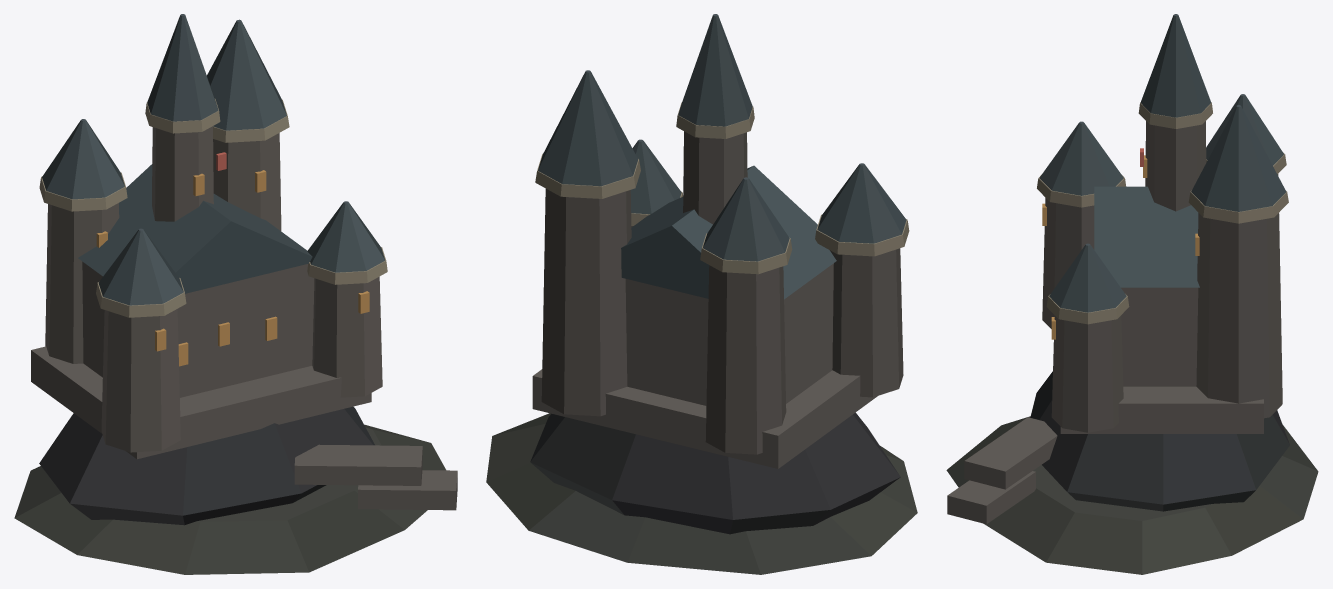
File: castle.glb
3 views of the same model, side by side, from view 1: azimuth 30°, elevation 25°; view 2: azimuth 150°, elevation 25°; view 3: azimuth 270°, elevation 25° (orthographic). The views are drawn at different scales.
Parts seen in each view (by area): view 1: Castle Ravenloft · atlas landmark; view 2: Castle Ravenloft · atlas landmark; view 3: Castle Ravenloft · atlas landmark.
Part boxes in pixels (x1,y1,x2,y2): Castle Ravenloft · atlas landmark: (14, 14, 457, 574); Castle Ravenloft · atlas landmark: (486, 14, 917, 574); Castle Ravenloft · atlas landmark: (946, 14, 1318, 574).
Size of the model in its own units: 2.06 by 2.44 by 1.78.
